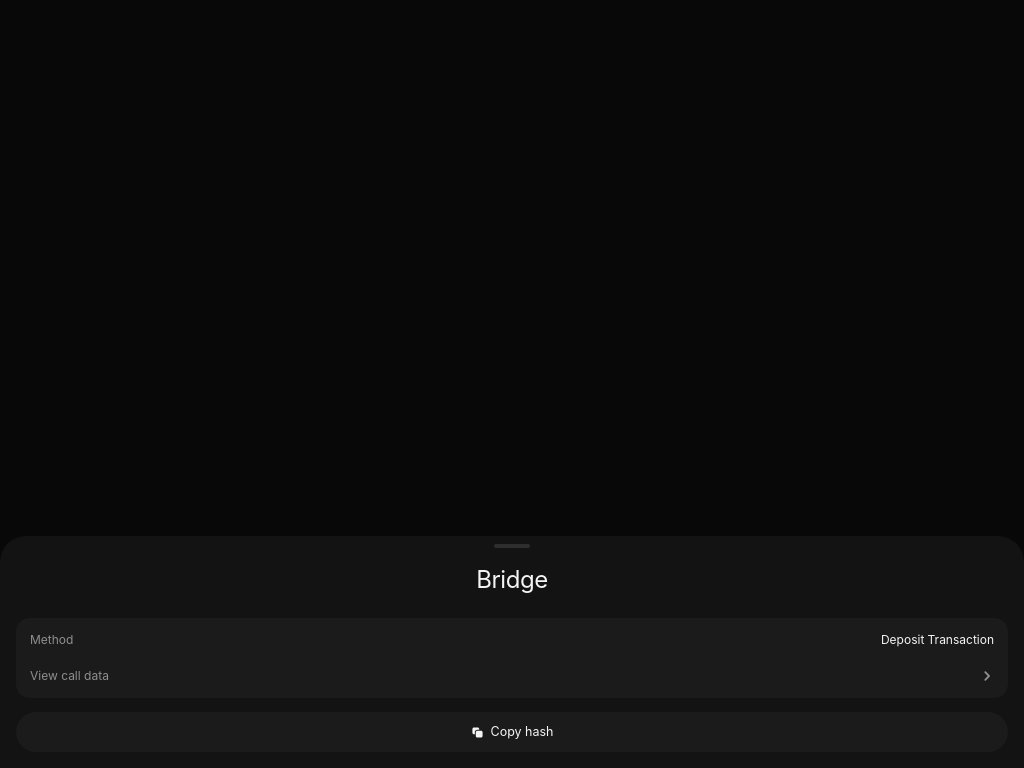
Test: call data page › lists the summary and every argument with its label, type and full value
Click the button "View call data": x=69, y=676 [30, 658, 994, 694]
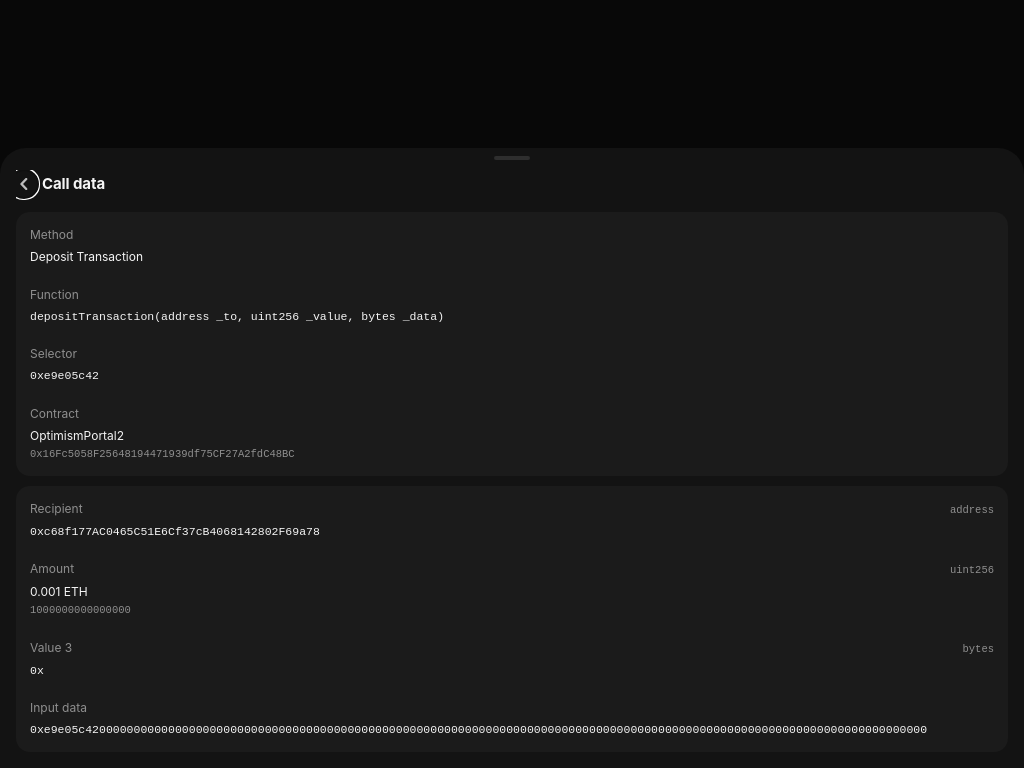
Check: the text "Function" is shown, box [30, 286, 79, 304]
Check: the text "depositTransaction(address _to, uint256 _value, bytes _data)" is shown, box [30, 308, 444, 325]
Check: the text "Selector" is shown, box [30, 345, 77, 363]
